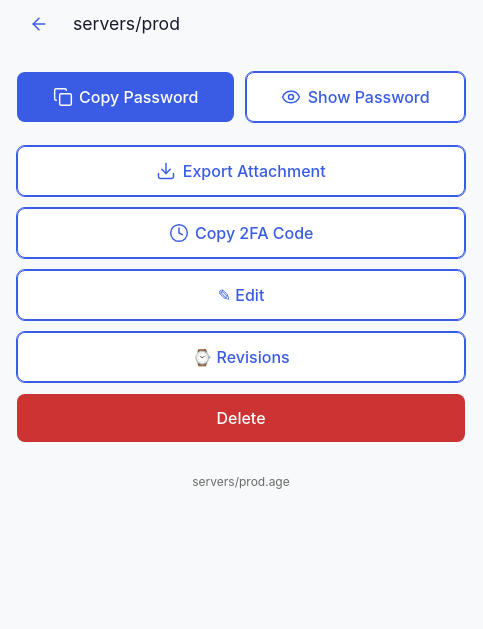
Test: EntryDetailPage › showPassword › toggles off when clicked while already revealed (no re-auth, no re-decrypt)
Note: First click reveals.
Click the button with aria-label "Show password": x=356, y=97 [246,72,465,122]
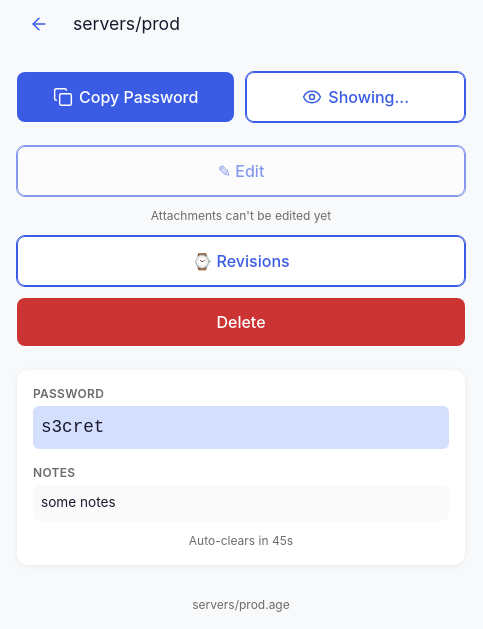
Check: the text "s3cret" is shown, box [33,406,449,449]
Note: Second click toggles off — the aria-label flips to "Password is showing".
Click the button with aria-label "Password is showing": x=356, y=97 [246,72,465,122]
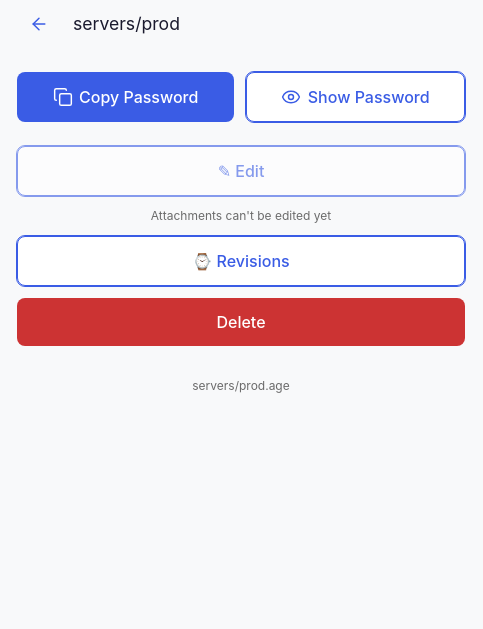
Check: the text "s3cret" is gone
